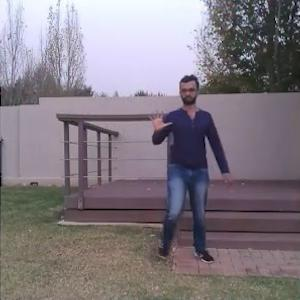follow_hand: (145, 104, 173, 134)
